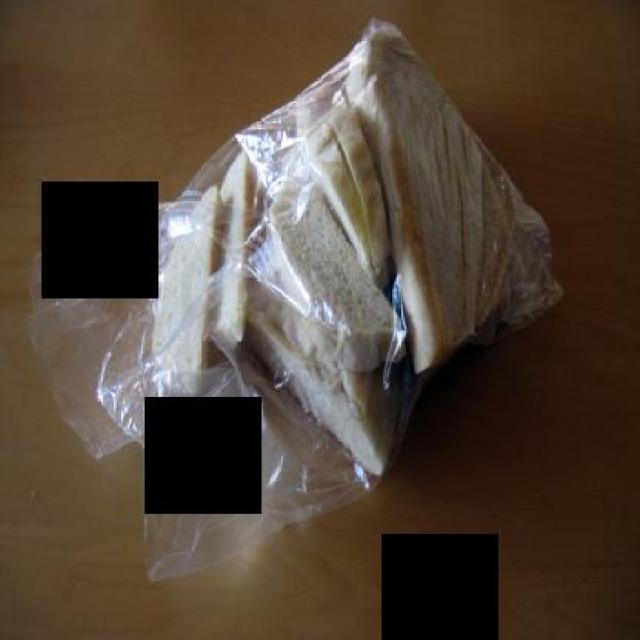plastic bag: (94, 16, 566, 584)
